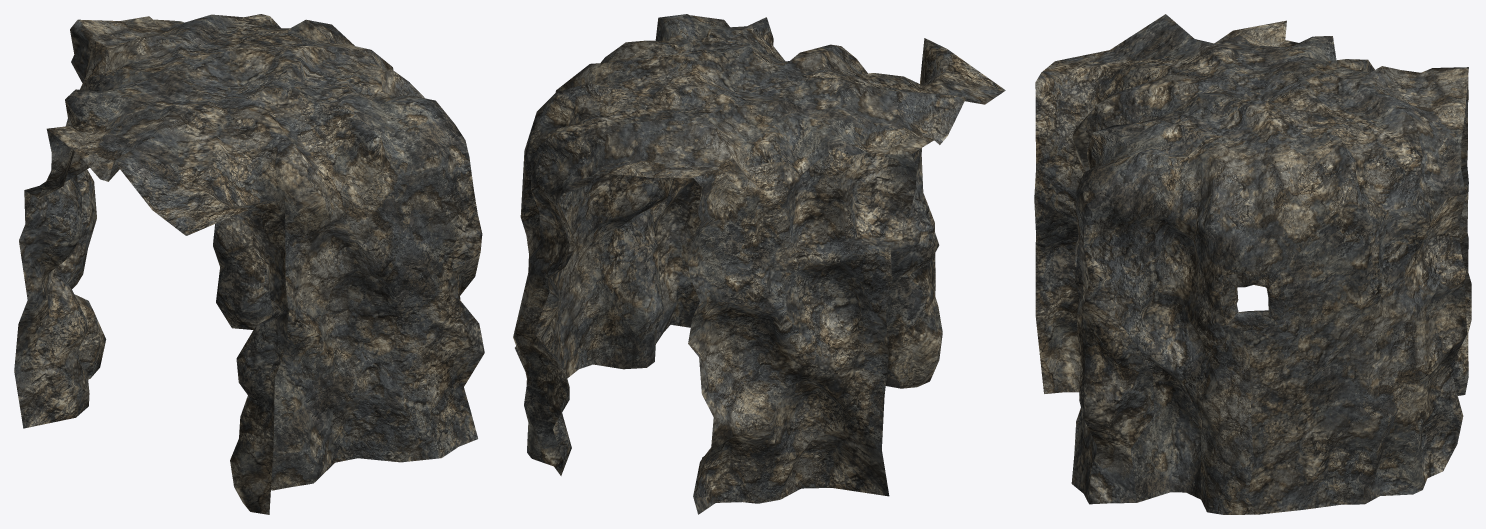
File: Module14A.fbx
3 renders of one model, left to right at view 1: azimuth 30°, elevation 25°; view 2: azimuth 150°, elevation 25°; view 3: azimuth 270°, elevation 25°, orthographic. The views are drawn at different scales.
Parts seen in each view (by area): view 1: cave_el14A_1900_Group43683; view 2: cave_el14A_1900_Group43683; view 3: cave_el14A_1900_Group43683.
Boxes of the visible parts, left/top/right/bottom form: cave_el14A_1900_Group43683: left=14, top=14, right=484, bottom=514; cave_el14A_1900_Group43683: left=513, top=14, right=1005, bottom=514; cave_el14A_1900_Group43683: left=1034, top=14, right=1471, bottom=514.
Size of the model in its own units: 56.72 by 53.17 by 59.
